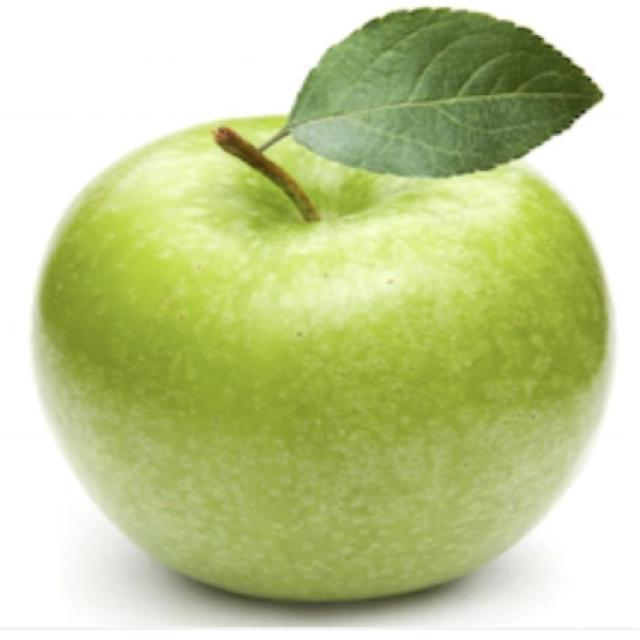Fresh Apple: (73, 123, 567, 562)
